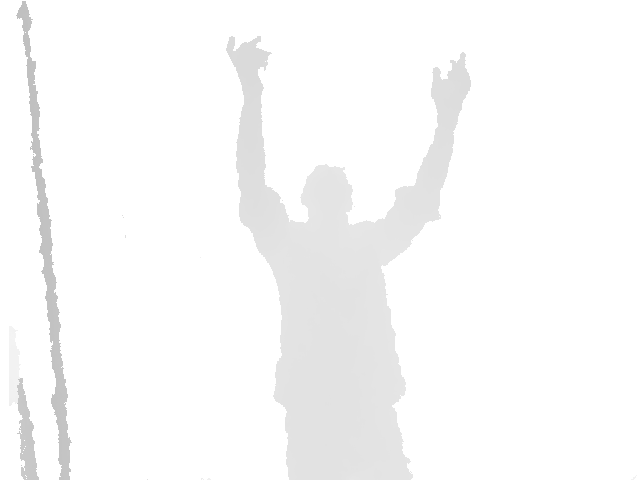hand: (226, 36, 273, 95), (431, 52, 472, 119)
head: (300, 165, 354, 218)
person: (226, 36, 473, 480)
